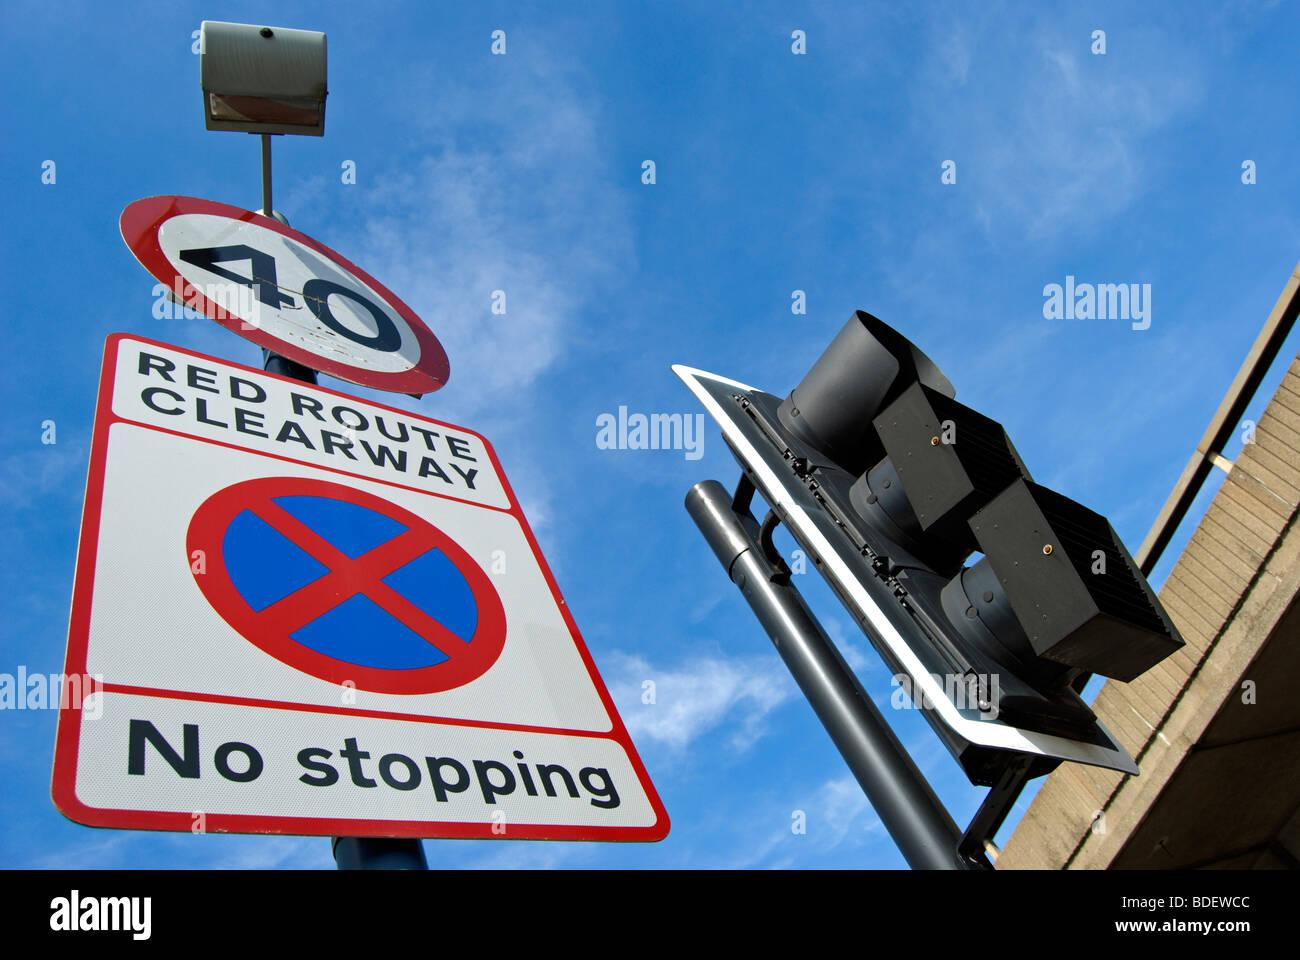no-stop: (186, 478, 510, 695)
speed-limit: (121, 194, 454, 397)
